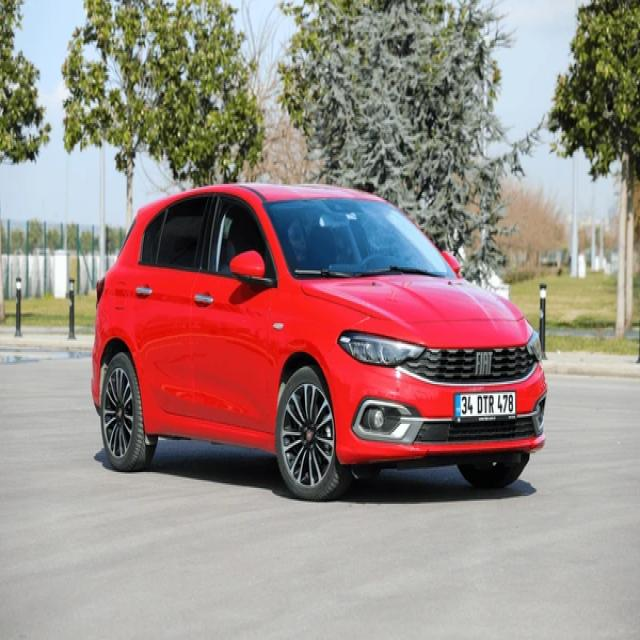fiat: (473, 349, 492, 382)
